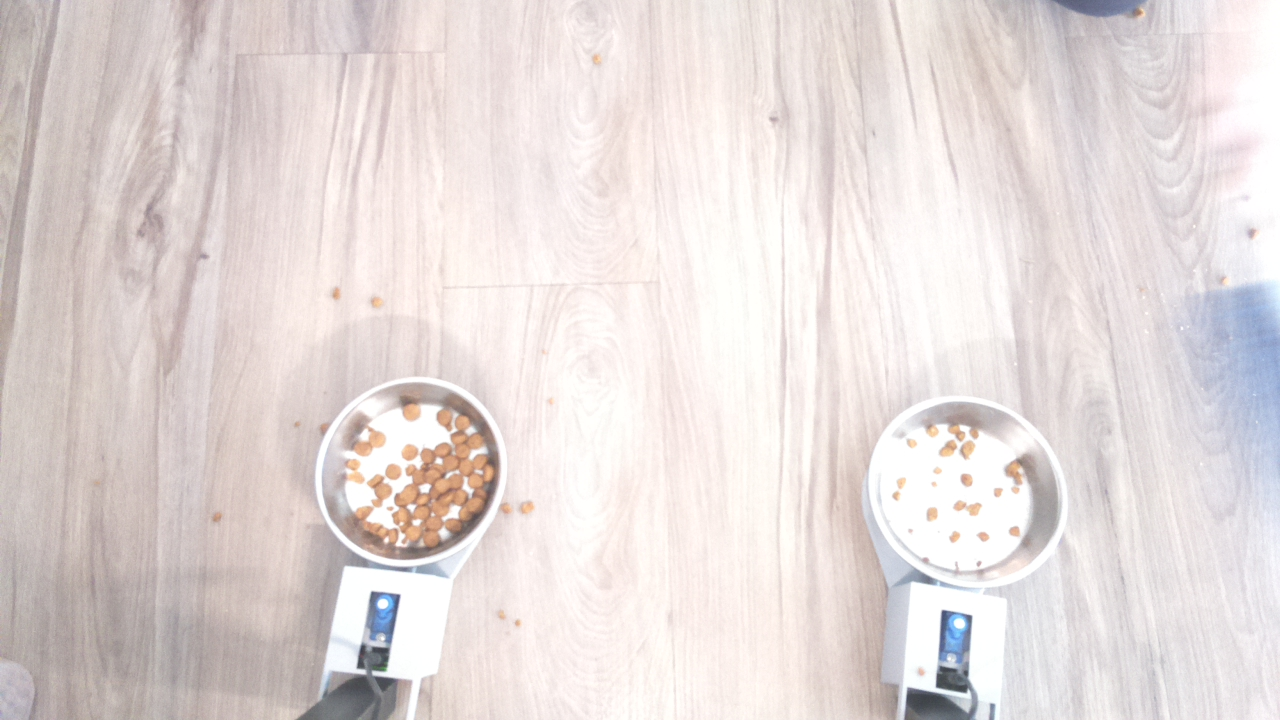open_bowl: (862, 387, 1078, 598), (311, 372, 506, 572)
